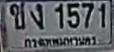1: (54, 3, 62, 28), (98, 3, 104, 27)
5: (66, 2, 79, 27)
7: (81, 2, 93, 27)
A07: (29, 3, 43, 29)
A10: (9, 1, 25, 29)
BKK: (22, 33, 96, 47)
